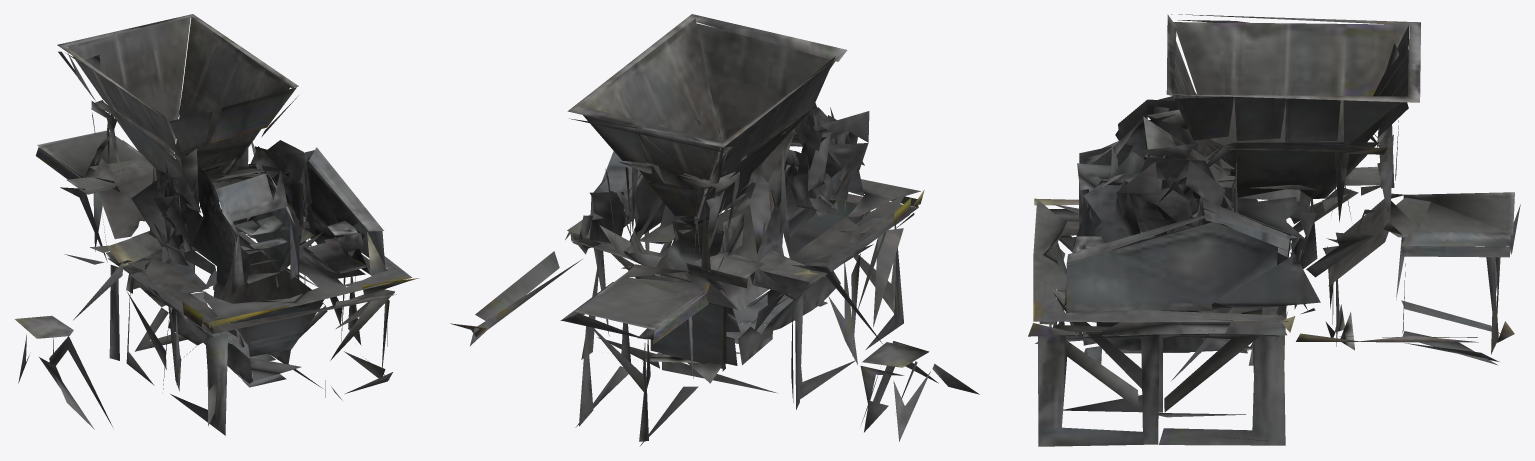
Rendered from steinbruch_brecher_lo.glb.
3 views of the same model, side by side, from view 1: azimuth 30°, elevation 25°; view 2: azimuth 150°, elevation 25°; view 3: azimuth 270°, elevation 25° (orthographic). The views are drawn at different scales.
Parts seen in each view (by area): view 1: Prop; view 2: Prop; view 3: Prop.
Part boxes in pixels (x1,y1,x2,y2): Prop: [14, 14, 419, 435]; Prop: [450, 14, 979, 445]; Prop: [1028, 14, 1520, 446].
Bounding box in the file's own units: 1.1 × 1.05 × 1.36.
1 material, 1 textured.
